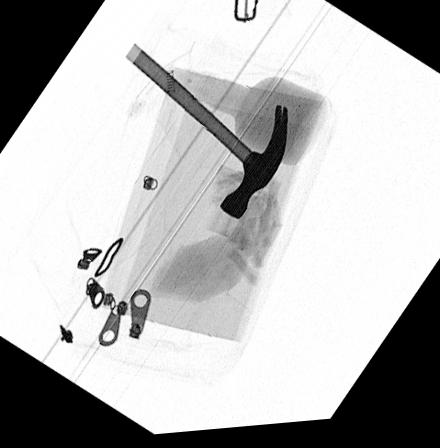Hammer: (124, 43, 288, 224)
